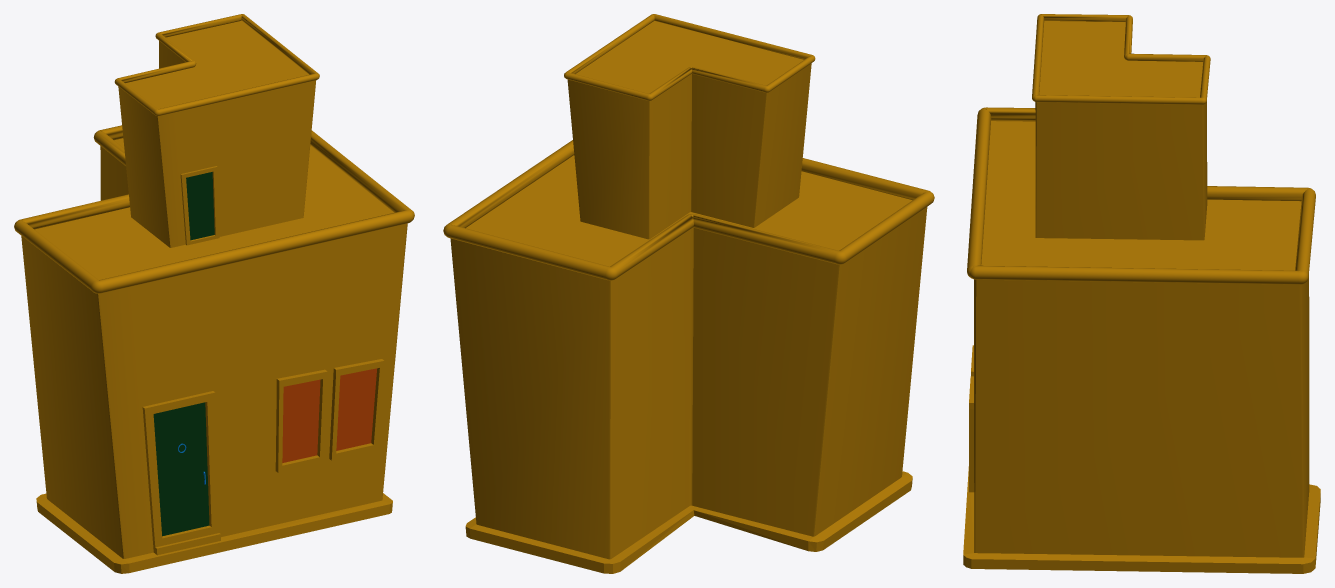
Rendered from house4.FBX.
3 renders of one model, left to right at view 1: azimuth 30°, elevation 25°; view 2: azimuth 150°, elevation 25°; view 3: azimuth 270°, elevation 25°, orthographic. The views are drawn at different scales.
Parts seen in each view (by area): view 1: Plane006; view 2: Plane006; view 3: Plane006.
Boxes of the visible parts, x1=… form: Plane006: x1=14, y1=14, x2=414, y2=573; Plane006: x1=443, y1=14, x2=934, y2=573; Plane006: x1=963, y1=14, x2=1320, y2=573.
Bounding box in the file's own units: 8.54 × 10.61 × 7.63.
